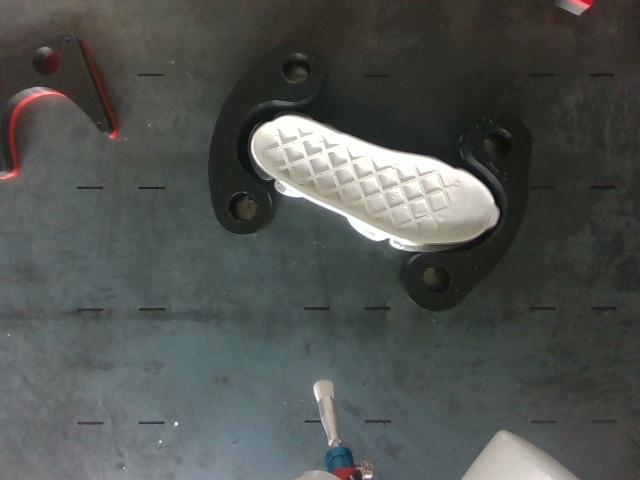shoes: (252, 116, 497, 245)
